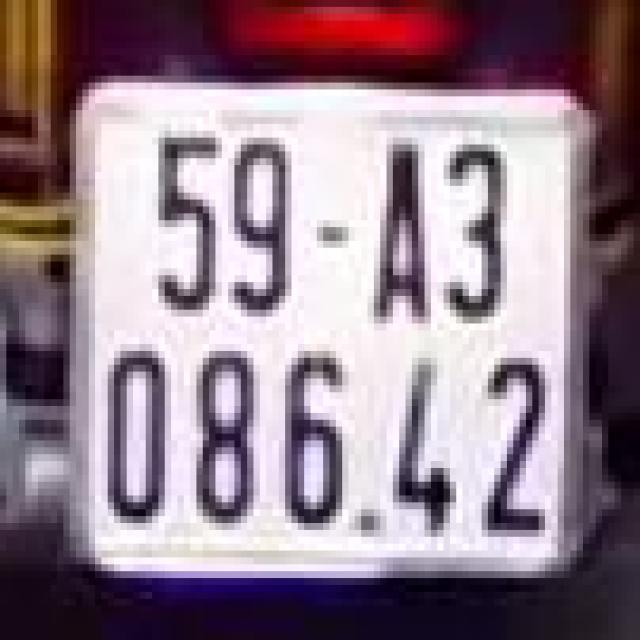0: (95, 330, 177, 530)
2: (478, 338, 554, 558)
3: (441, 134, 516, 327)
4: (386, 341, 469, 547)
5: (140, 120, 228, 320)
6: (270, 341, 364, 540)
8: (193, 327, 257, 533)
9: (222, 120, 298, 334)
A: (368, 120, 437, 340)
